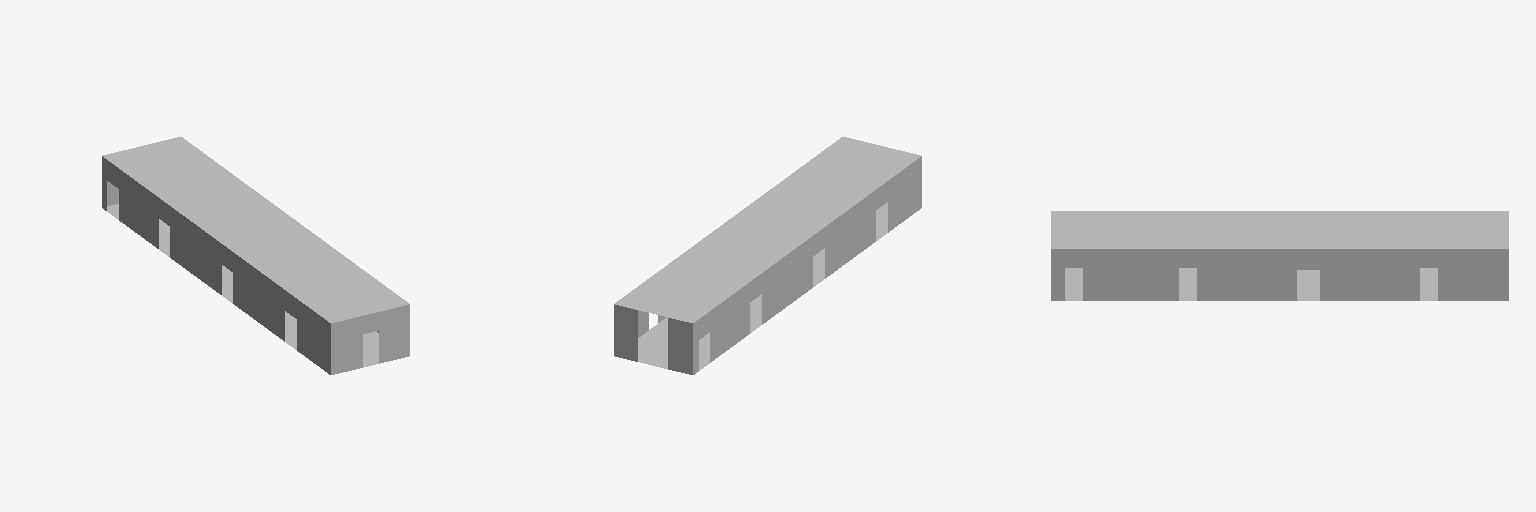
Rendered from camera room collision.obj.
3 renders of one model, left to right at view 1: azimuth 30°, elevation 25°; view 2: azimuth 150°, elevation 25°; view 3: azimuth 270°, elevation 25°, orthographic.
Parts seen in each view (by area): view 1: result.001_Cube.016; view 2: result.001_Cube.016; view 3: result.001_Cube.016.
Part boxes in pixels (x1,y1,x2,y2): result.001_Cube.016: (102,137,409,374); result.001_Cube.016: (614,137,921,374); result.001_Cube.016: (1051,211,1508,300).
Size of the model in its own units: 8 by 5 by 40.